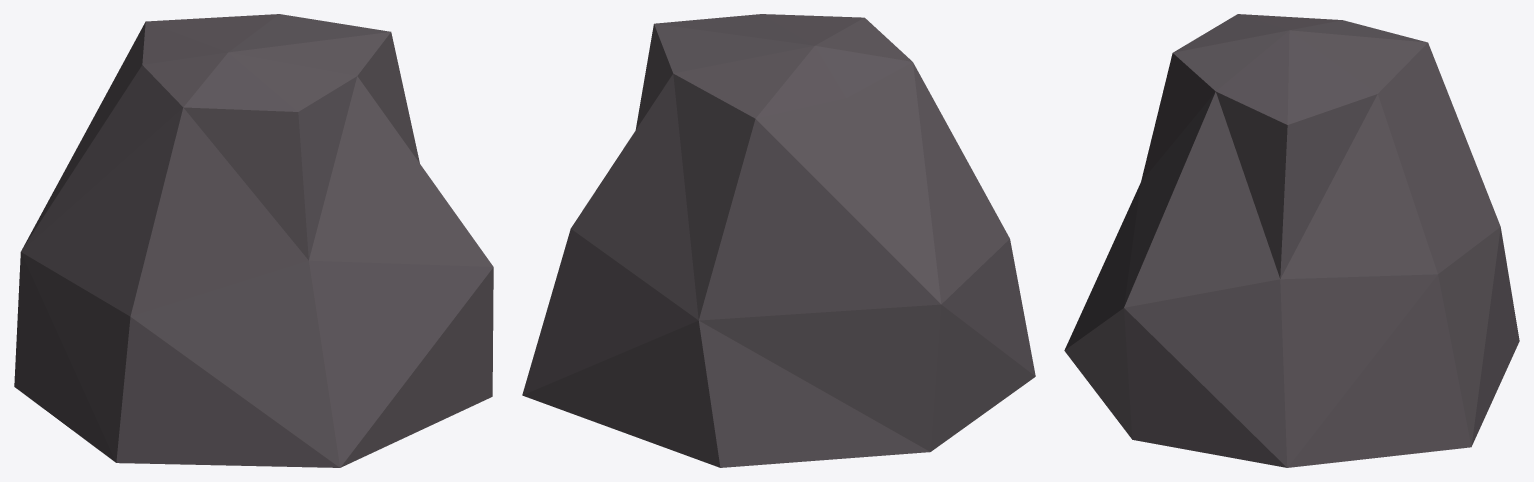
File: rock_small_a.fbx
3 views of the same model, side by side, from view 1: azimuth 30°, elevation 25°; view 2: azimuth 150°, elevation 25°; view 3: azimuth 270°, elevation 25° (orthographic). The views are drawn at different scales.
Visible parts, largest first — view 1: rock_small_a; view 2: rock_small_a; view 3: rock_small_a.
Boxes of the visible parts, <box> form: rock_small_a: <box>14,14,493,467</box>; rock_small_a: <box>522,14,1035,467</box>; rock_small_a: <box>1064,14,1519,467</box>.
Bounding box in the file's own units: 0.8248 × 0.635 × 0.8136.
